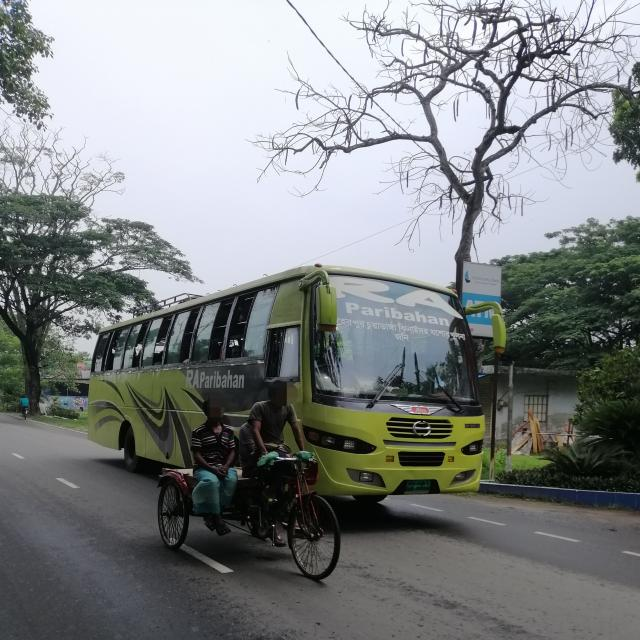Van: (153, 451, 347, 584)
